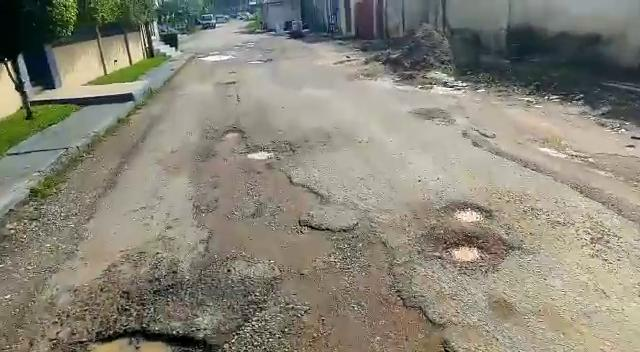pothole: (91, 333, 204, 352), (445, 232, 484, 267), (444, 200, 490, 225), (219, 125, 245, 142), (242, 150, 272, 161)
